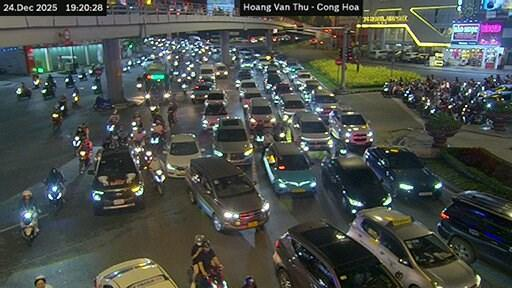motorbike: (189, 266, 227, 287), (19, 210, 37, 244), (48, 183, 60, 214), (131, 142, 144, 166), (153, 169, 165, 194), (77, 148, 89, 172), (138, 149, 152, 169), (92, 95, 112, 108), (41, 81, 54, 99), (51, 109, 61, 130), (16, 86, 31, 98), (380, 81, 390, 97), (71, 135, 83, 148), (70, 89, 79, 106), (150, 104, 159, 121), (57, 99, 66, 115), (92, 77, 101, 93), (150, 131, 160, 144), (131, 117, 141, 130), (105, 121, 115, 133), (44, 77, 56, 86), (64, 76, 73, 86), (32, 75, 38, 88), (163, 91, 169, 103), (144, 91, 150, 103), (135, 80, 141, 90), (79, 72, 86, 80), (188, 268, 192, 274)
